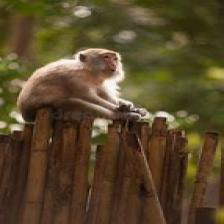monkey: (18, 46, 156, 132)
